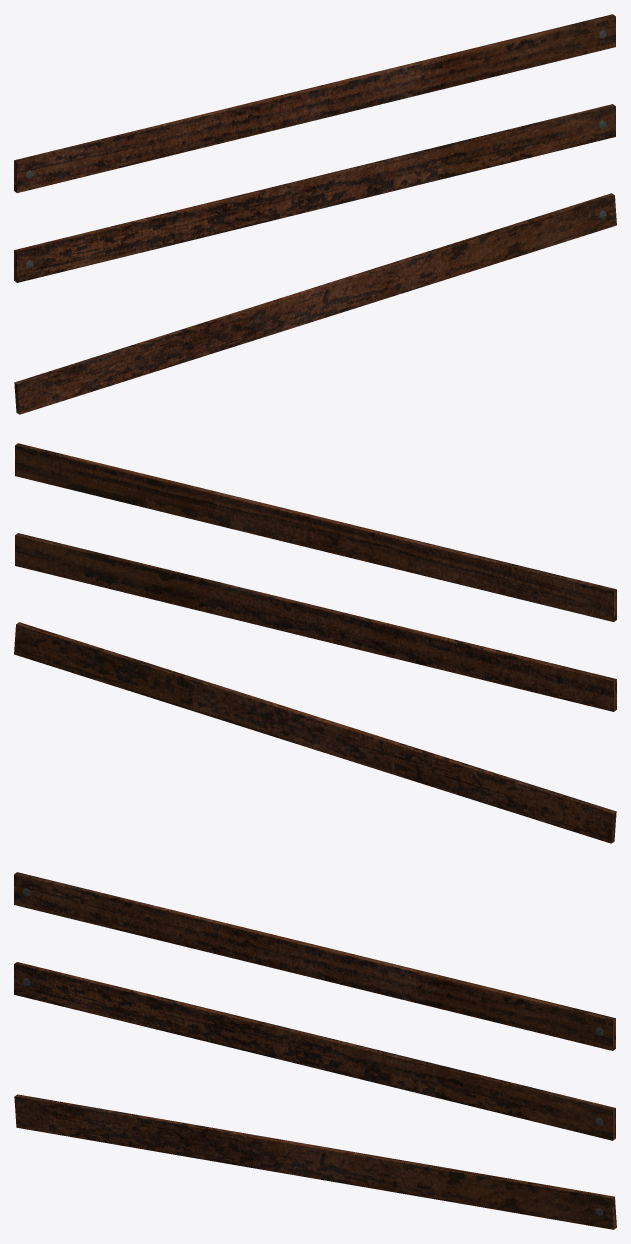
The model's file is Fence2.glb.
The picture shows the model from 3 angles, top to bottom: view 1: azimuth 30°, elevation 25°; view 2: azimuth 150°, elevation 25°; view 3: azimuth 330°, elevation 25°; orthographic projection.
Parts seen in each view (by area): view 1: Fence2; view 2: Fence2; view 3: Fence2.
Part boxes in pixels (box(x1,y1,x2,y2)): Fence2: box(14, 14, 616, 414); Fence2: box(14, 443, 616, 843); Fence2: box(14, 872, 616, 1229).
Size of the model in its own units: 2.1 by 0.8443 by 0.0202.
1 material, 1 textured.
